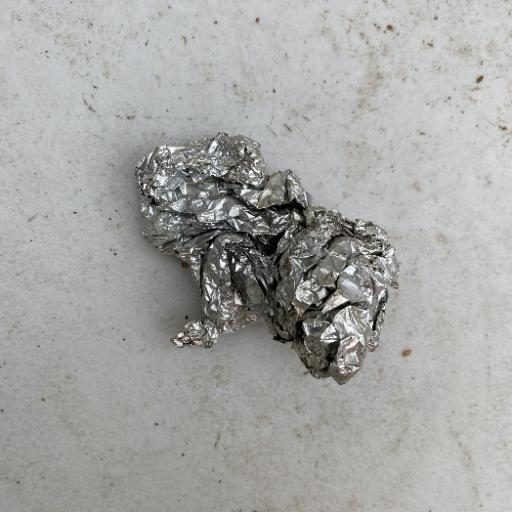Metal: (133, 130, 400, 385)
